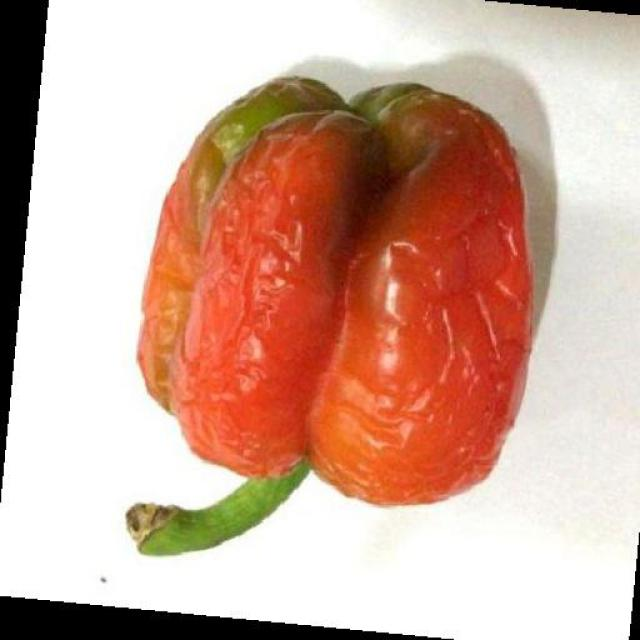Stale_Capsicum: (114, 59, 512, 558)
